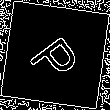P_NE: (24, 25, 86, 85)
